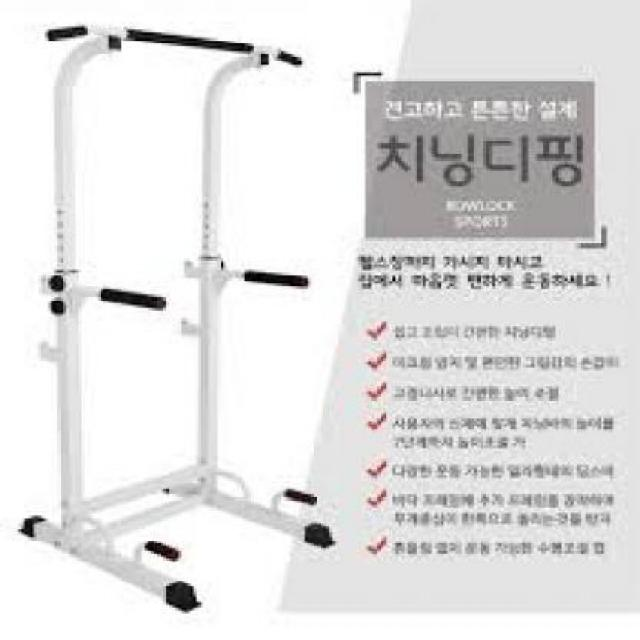chinning dipping: (20, 23, 337, 612)
